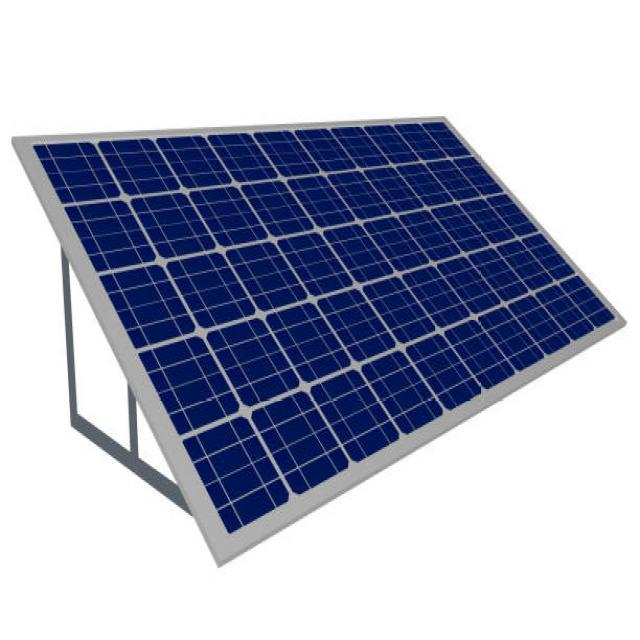no faulty: (16, 120, 626, 555)
